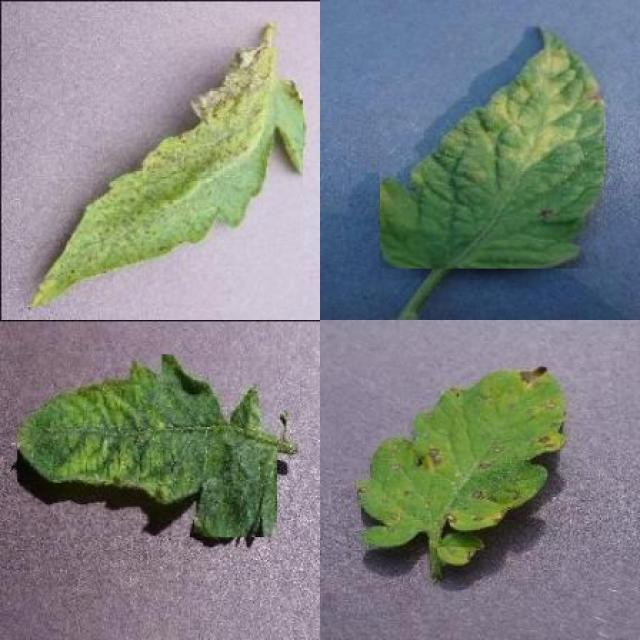Leaf Mold: (380, 22, 606, 268)
Mosaic Virus: (17, 355, 277, 538)
Septoria: (23, 47, 303, 307), (355, 366, 568, 548)
